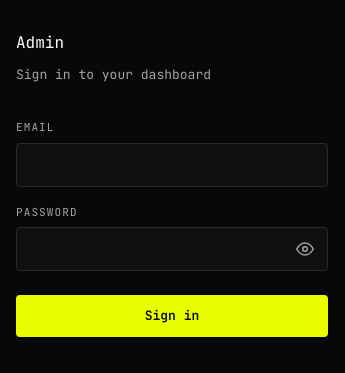
Test: LoginForm › shows error message when submitLogin returns error
Type "user@example.com" into the field labelled "Email" at {"x": 172, "y": 165}, box [16, 142, 328, 187]
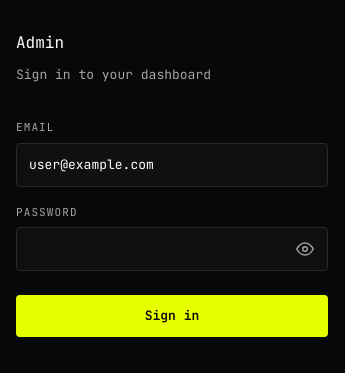
Type "wrong-password" into the password field labelled "Password" at {"x": 172, "y": 249}, box [16, 227, 328, 271]
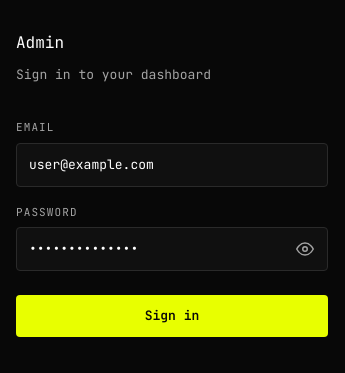
Click the button "Sign in" at {"x": 172, "y": 316}, box [16, 295, 328, 338]
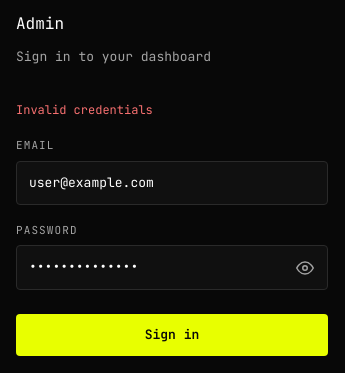
Expected: the text "Invalid credentials" is shown, [16, 102, 153, 118]
